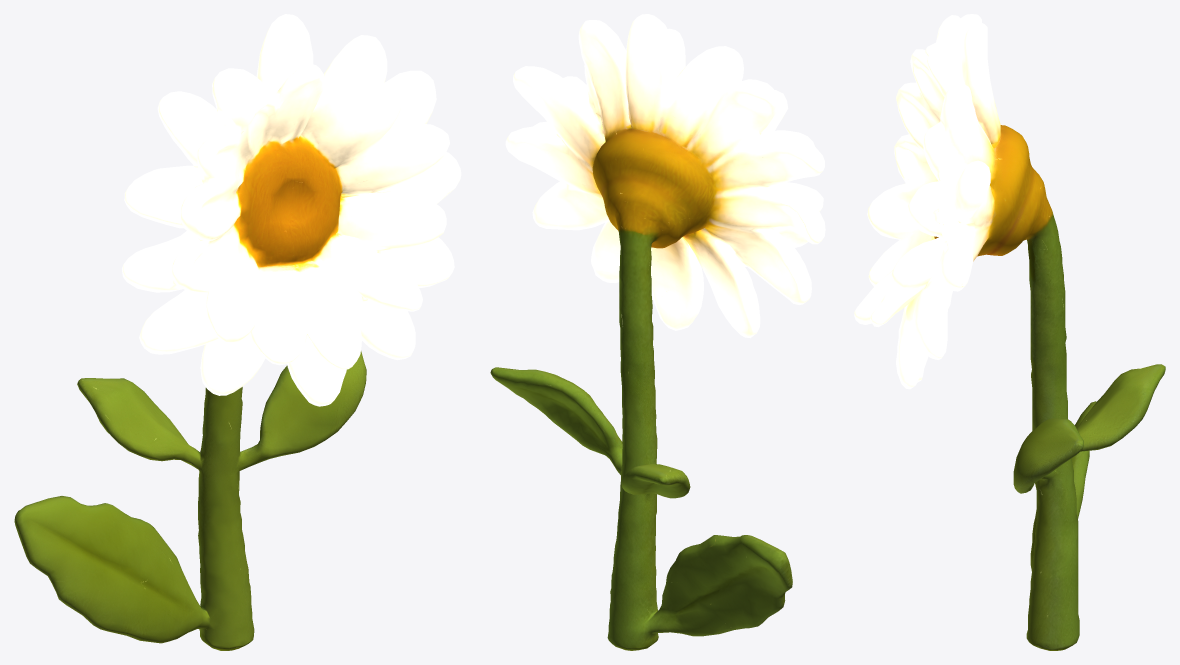
File: moon_daisy.glb
The picture shows the model from 3 angles, left to right: view 1: azimuth 30°, elevation 25°; view 2: azimuth 150°, elevation 25°; view 3: azimuth 270°, elevation 25°; orthographic projection. The views are drawn at different scales.
Bounding box in the file's own units: 1.14 × 1.91 × 0.8493.
Materials: 1 (1 with a texture image).
